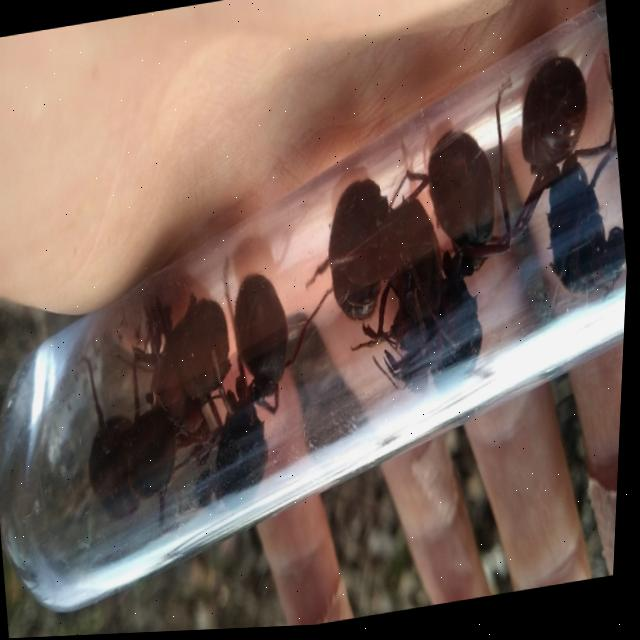Alive-Female-Dealate: (320, 77, 551, 419), (418, 51, 637, 337), (151, 239, 365, 525), (291, 164, 472, 401), (70, 336, 221, 550), (108, 282, 248, 466)
